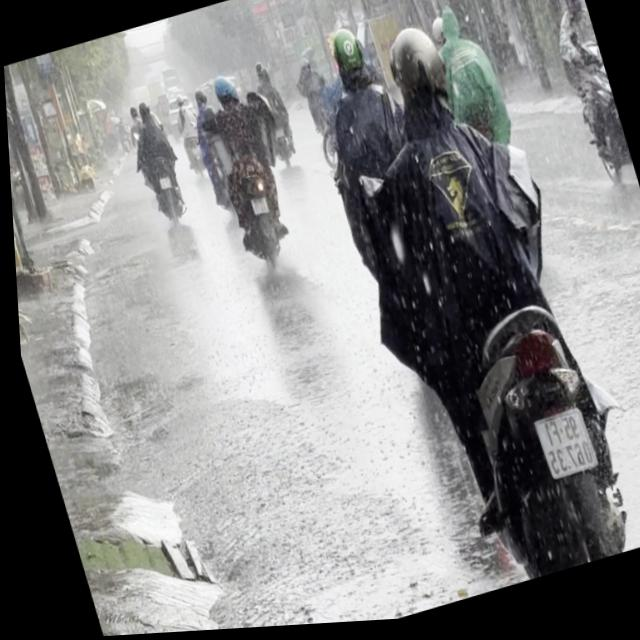helmet: (377, 21, 456, 130), (325, 25, 372, 92), (208, 74, 236, 116), (558, 0, 586, 24)
licenseplate: (288, 0, 640, 613), (282, 9, 482, 431), (189, 64, 301, 284), (537, 0, 640, 217)
nohelmet: (528, 413, 591, 485), (248, 196, 266, 217)
